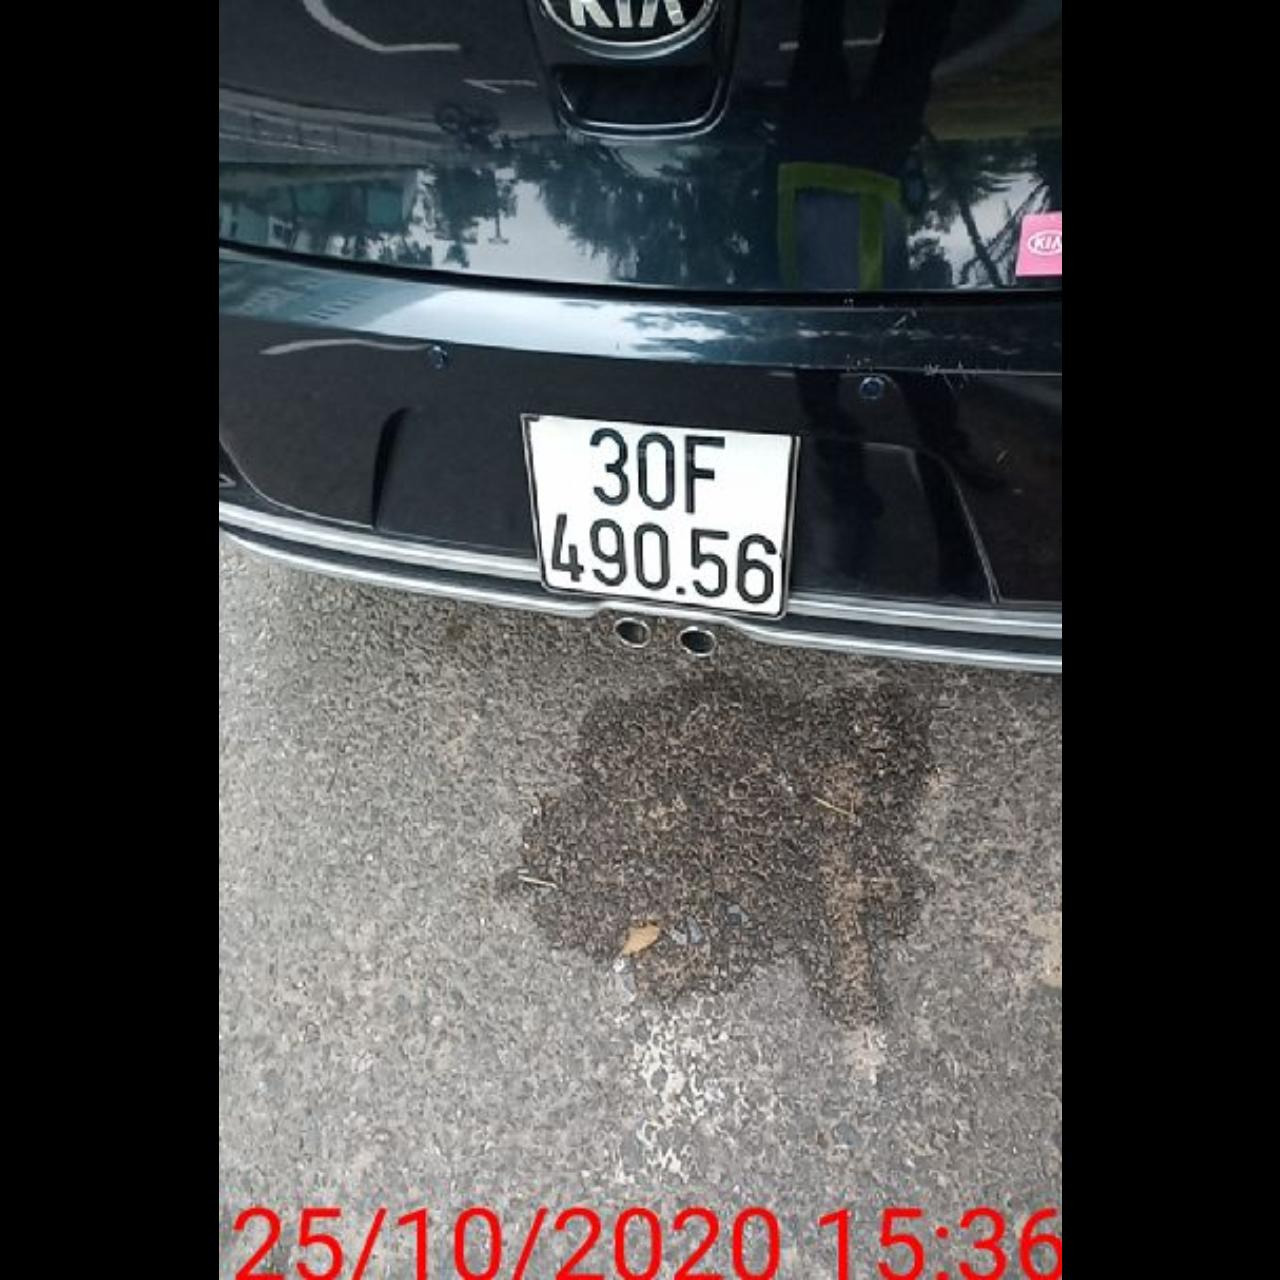bienso: (516, 406, 800, 628)
